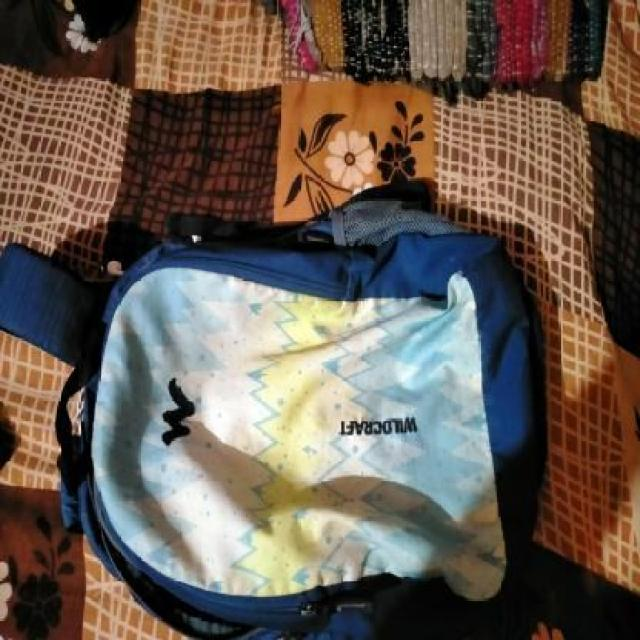backpack: (0, 175, 554, 640)
